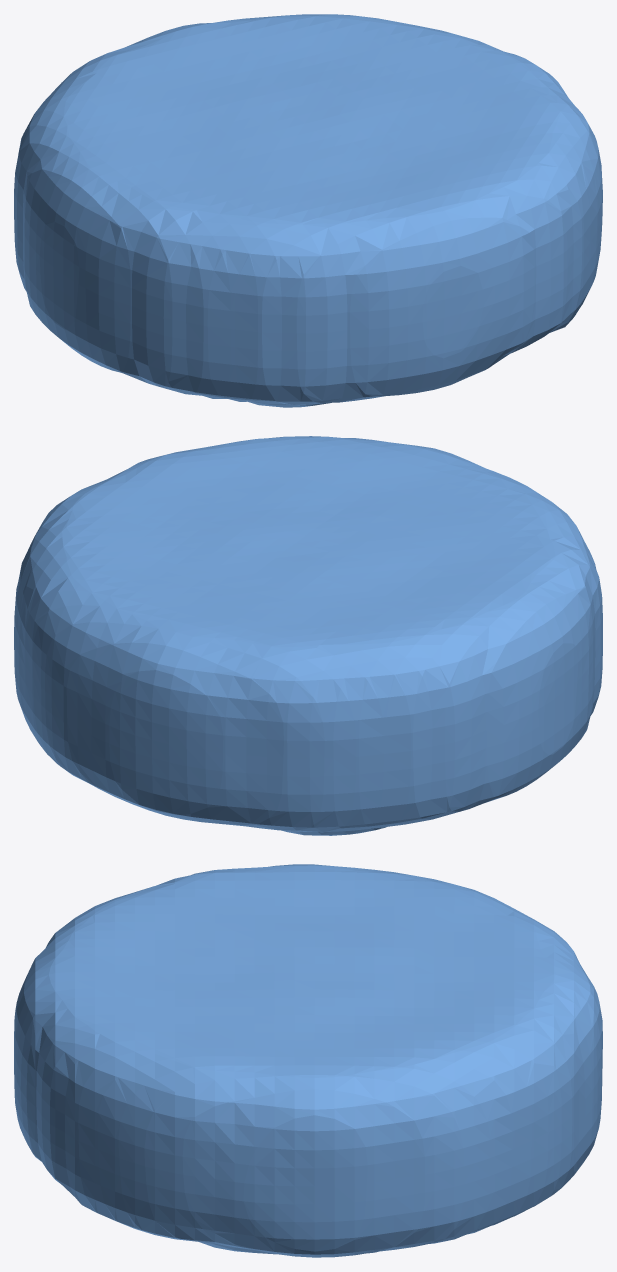
Rendered from water_0003.glb.
3 views of the same model, one above another, from view 1: azimuth 30°, elevation 25°; view 2: azimuth 150°, elevation 25°; view 3: azimuth 270°, elevation 25° (orthographic).
Visible parts, largest first — view 1: Water_0003; view 2: Water_0003; view 3: Water_0003.
Boxes of the visible parts, box(x1,y1,x2,y2) form: Water_0003: box(14, 14, 602, 407); Water_0003: box(14, 436, 602, 835); Water_0003: box(14, 864, 602, 1257).
Bounding box in the file's own units: 1.72 × 0.7776 × 1.72.
